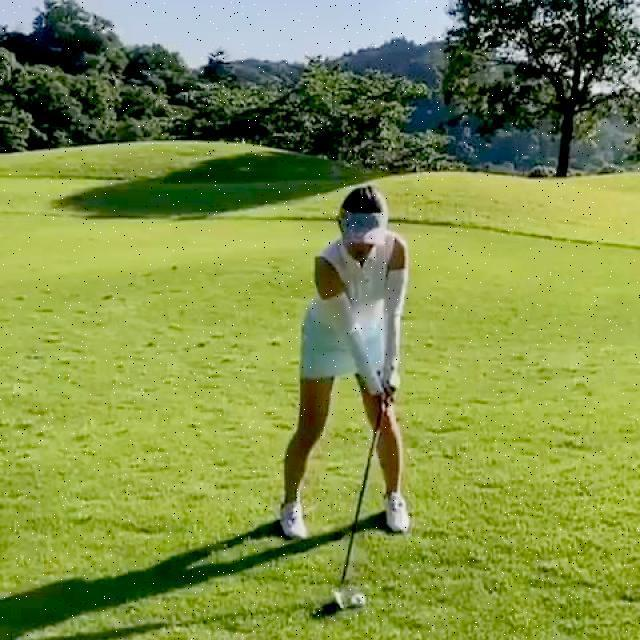ClubHead: (330, 589, 346, 610)
GolfBall: (350, 592, 368, 606)
